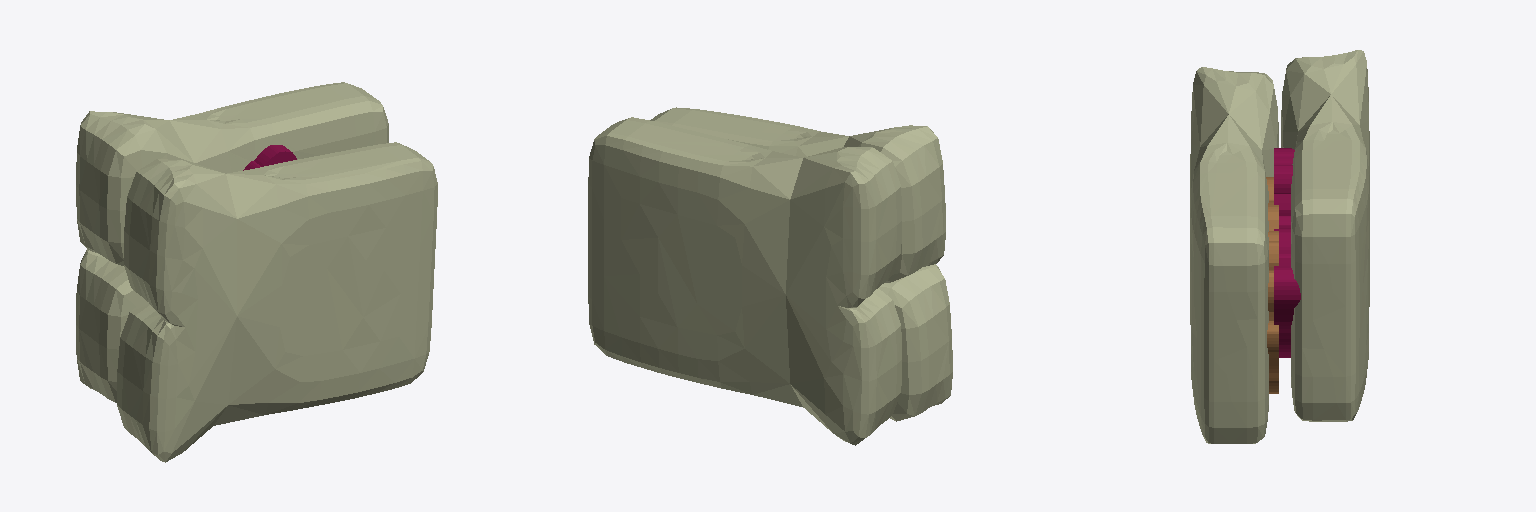
The model's file is tinker.obj.
The picture shows the model from 3 angles: view 1: azimuth 30°, elevation 25°; view 2: azimuth 150°, elevation 25°; view 3: azimuth 270°, elevation 25°; orthographic projection.
Parts seen in each view (by area): view 1: obj_0; view 2: obj_0; view 3: obj_0.
Boxes of the visible parts, x1,y1,x2,y2 form: obj_0: [76, 82, 437, 462]; obj_0: [588, 107, 952, 445]; obj_0: [1190, 50, 1369, 443].
Size of the model in its own units: 2.77 by 2.58 by 1.45.